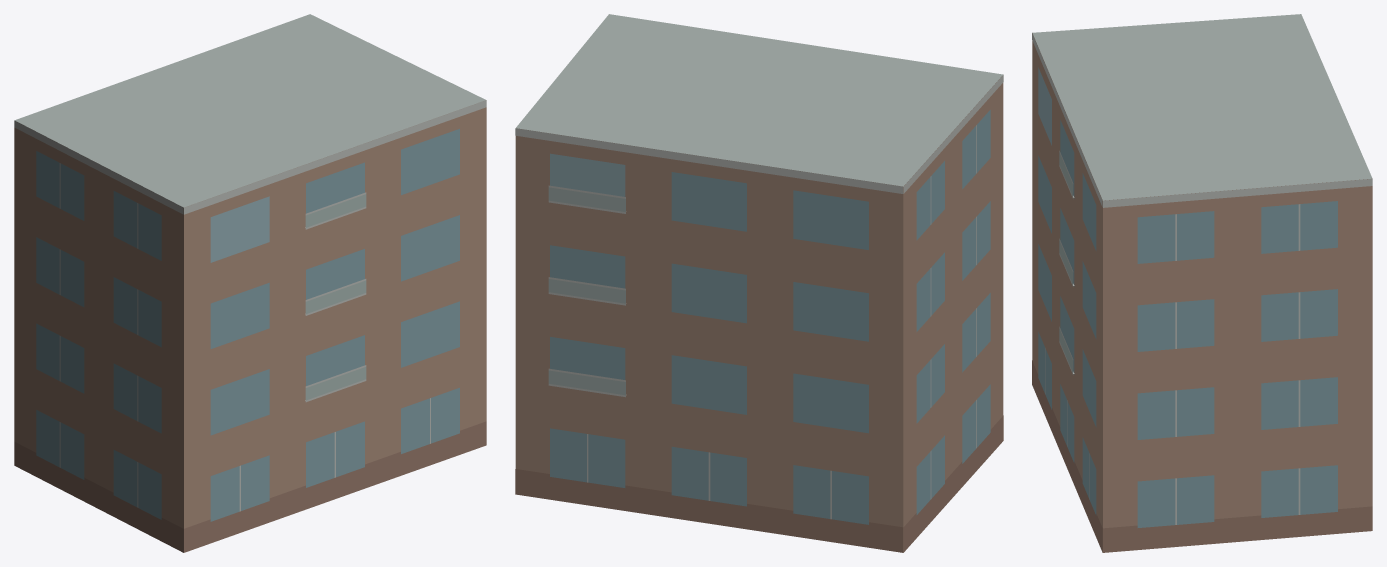
File: survey-upis-32997006.glb
3 views of the same model, side by side, from view 1: azimuth 30°, elevation 25°; view 2: azimuth 150°, elevation 25°; view 3: azimuth 270°, elevation 25° (orthographic). The views are drawn at different scales.
Parts seen in each view (by area): view 1: survey-upis-32997006.tmp; view 2: survey-upis-32997006.tmp; view 3: survey-upis-32997006.tmp.
Part boxes in pixels (<box>): survey-upis-32997006.tmp: <box>14,14,486,552</box>; survey-upis-32997006.tmp: <box>515,14,1003,552</box>; survey-upis-32997006.tmp: <box>1032,14,1372,552</box>.
Bounding box in the file's own units: 13.36 × 11.75 × 10.3.
